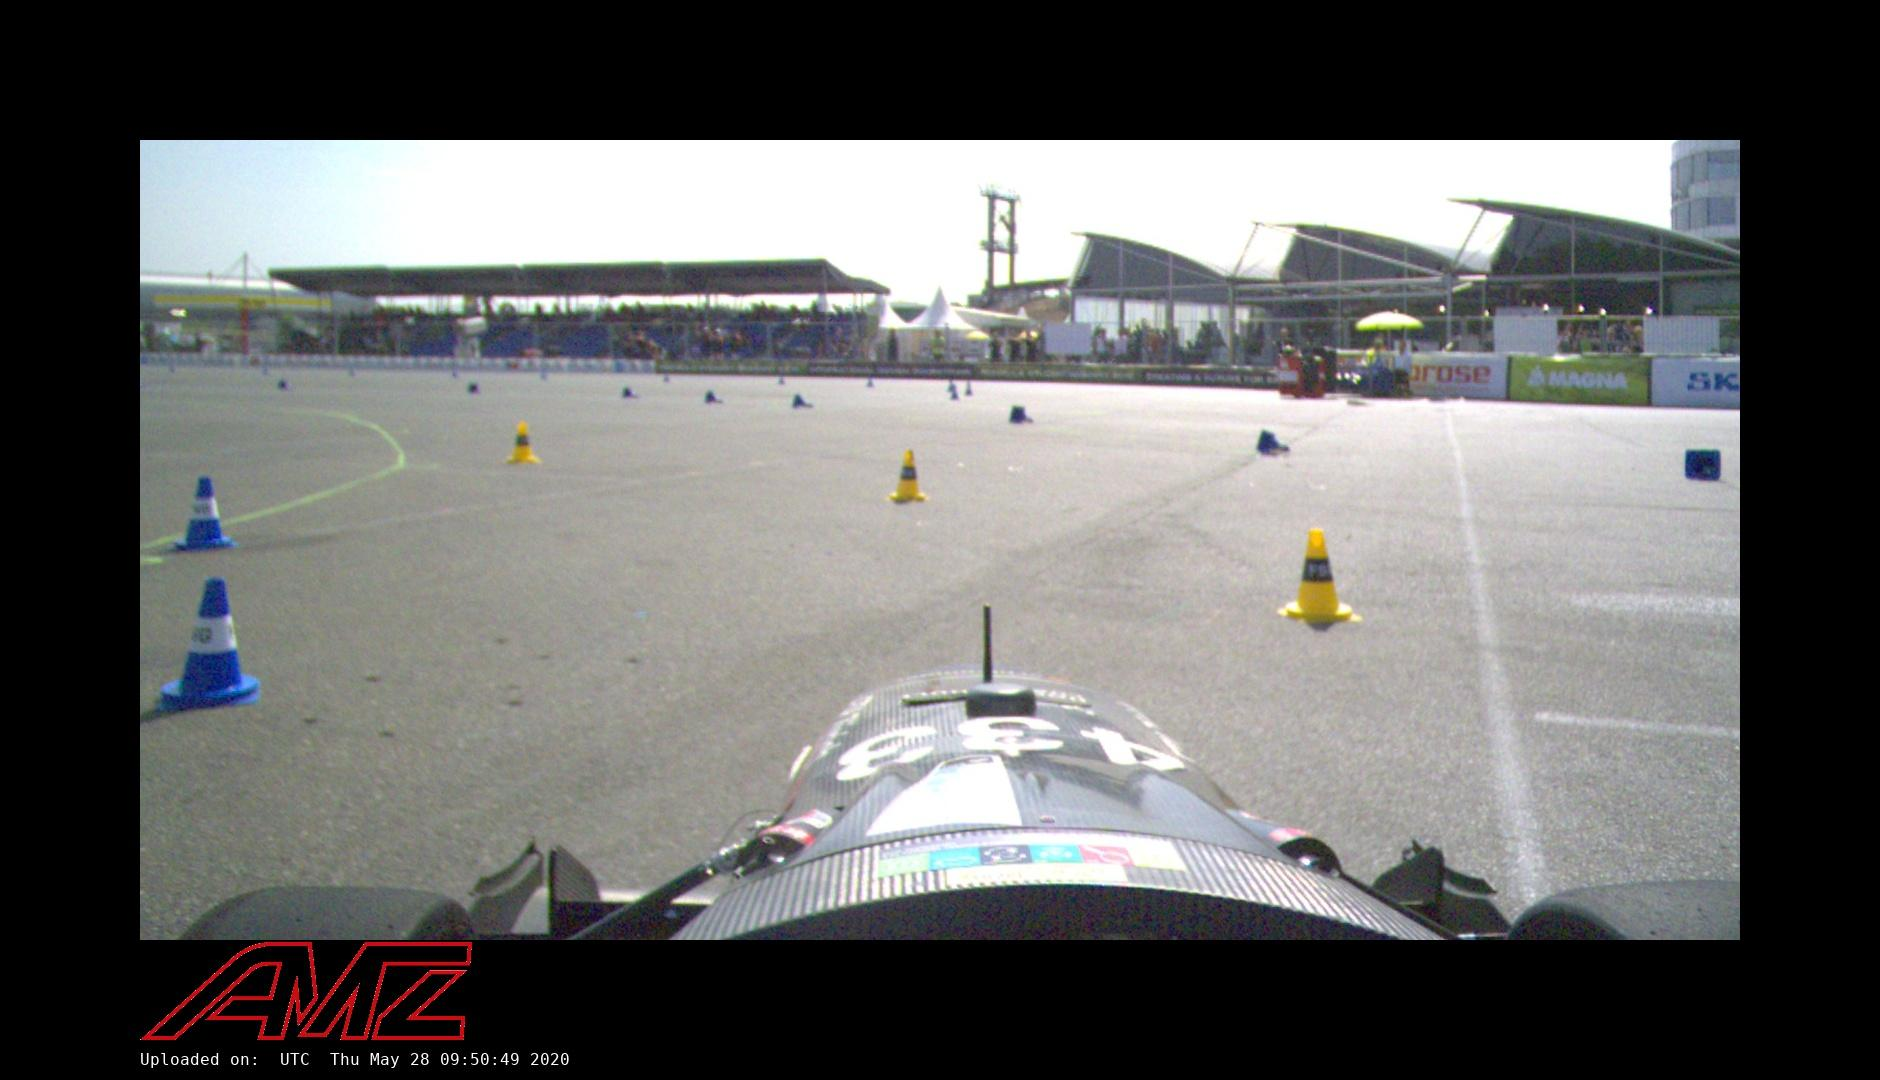blue_cone: (155, 576, 263, 707), (168, 474, 240, 554), (1685, 448, 1722, 482), (1254, 428, 1295, 457), (1007, 406, 1036, 424), (790, 394, 815, 410), (702, 389, 724, 404), (621, 388, 639, 399)
yellow_cone: (1281, 527, 1358, 625), (887, 448, 931, 503), (500, 421, 544, 466)
